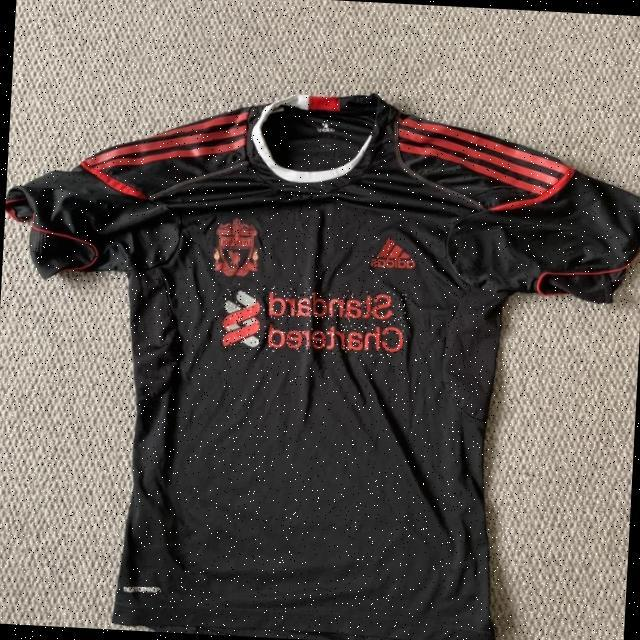Adidas: (371, 237, 418, 270)
Standard Chartered: (221, 283, 406, 358)
